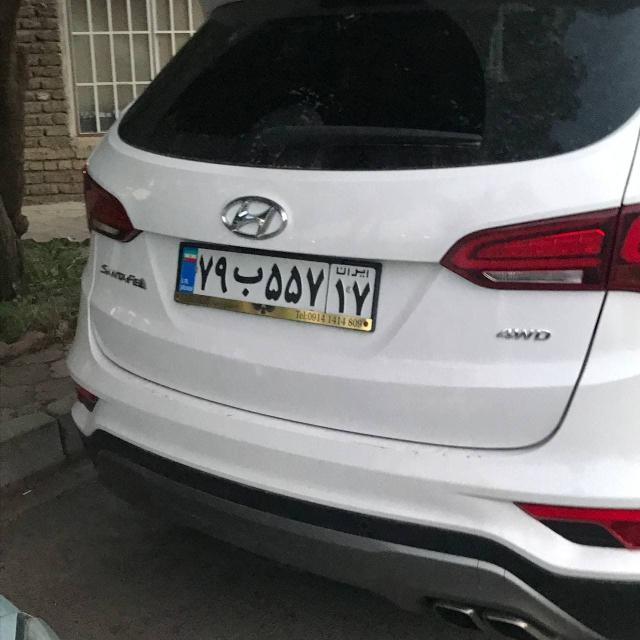Plates: (176, 246, 377, 319)
